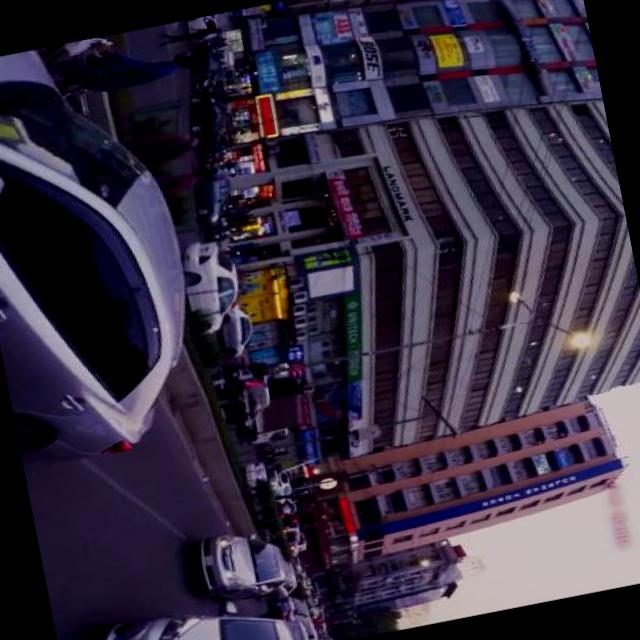car: (0, 29, 219, 470), (84, 586, 297, 640), (193, 521, 293, 605), (184, 234, 253, 334), (218, 358, 280, 432), (193, 160, 240, 226), (187, 90, 236, 150), (222, 298, 262, 358), (264, 508, 306, 550), (192, 50, 228, 93), (249, 456, 285, 496), (188, 13, 224, 42), (272, 470, 298, 502)
truck: (235, 370, 314, 446)
